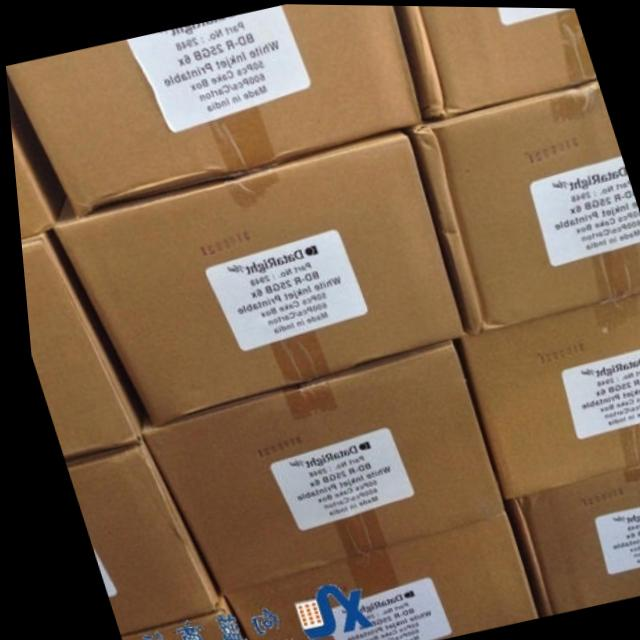box: (50, 130, 459, 426), (135, 340, 494, 591), (5, 3, 420, 218), (409, 80, 640, 335), (212, 513, 527, 640), (456, 289, 640, 498), (59, 440, 208, 636), (17, 232, 135, 459), (401, 5, 595, 120), (500, 462, 640, 615), (7, 97, 58, 238), (110, 596, 232, 640)
